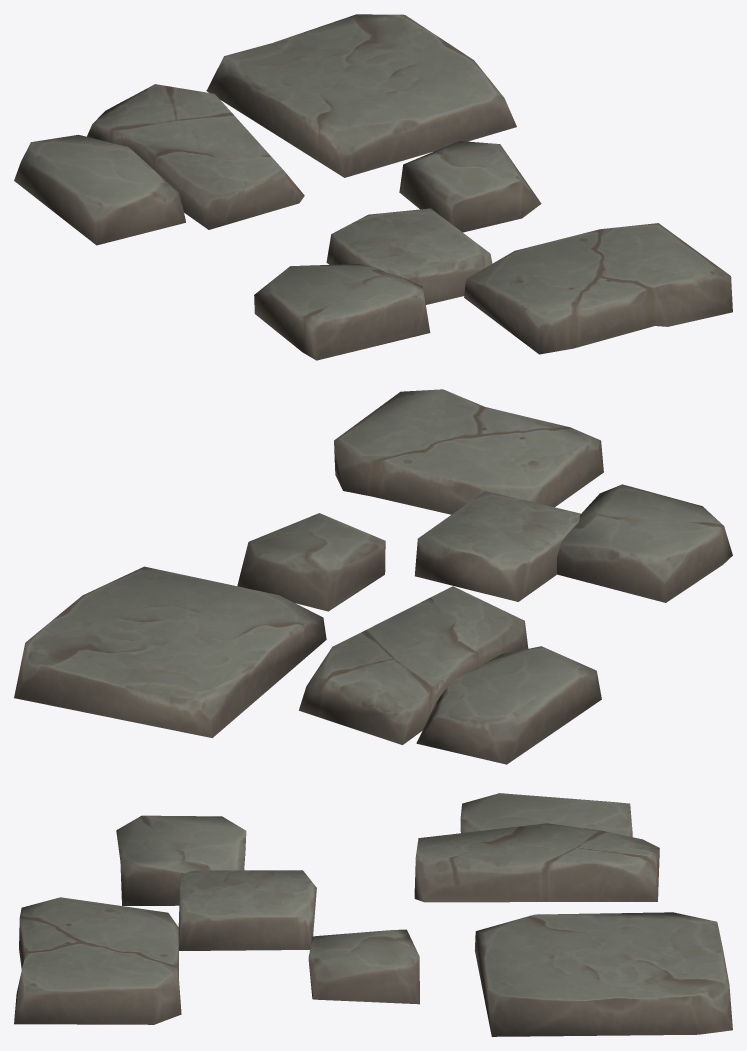
File: SM_FW01_Floor_Tile_Group_06.fbx
3 views of the same model, one above another, from view 1: azimuth 30°, elevation 25°; view 2: azimuth 150°, elevation 25°; view 3: azimuth 270°, elevation 25° (orthographic). The views are drawn at different scales.
Parts seen in each view (by area): view 1: SM_FW01_Floor_Tile_Group_06; view 2: SM_FW01_Floor_Tile_Group_06; view 3: SM_FW01_Floor_Tile_Group_06.
Part boxes in pixels (box(x1,y1,x2,y2)): SM_FW01_Floor_Tile_Group_06: box(14, 14, 732, 360); SM_FW01_Floor_Tile_Group_06: box(14, 389, 732, 764); SM_FW01_Floor_Tile_Group_06: box(14, 793, 732, 1036).
Bounding box in the file's own units: 1.37 × 0.1767 × 1.99.
